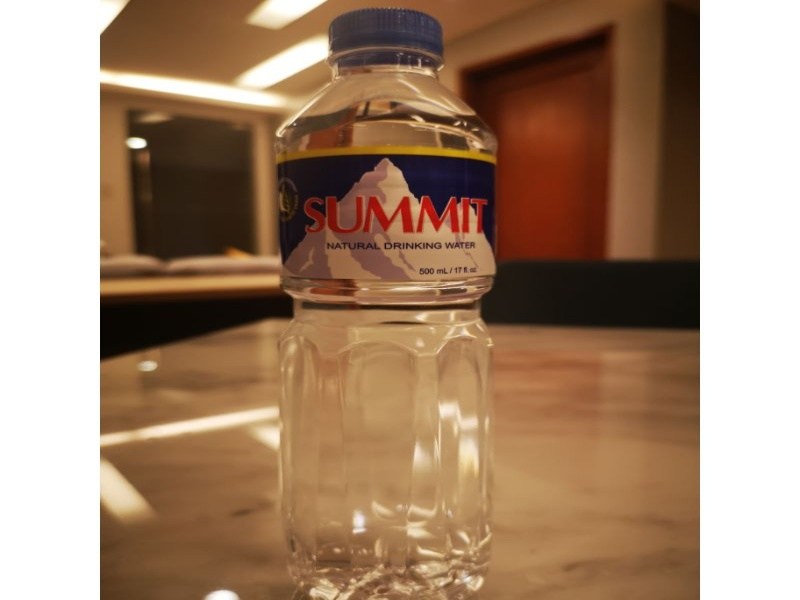PET #1: (266, 9, 500, 596)
